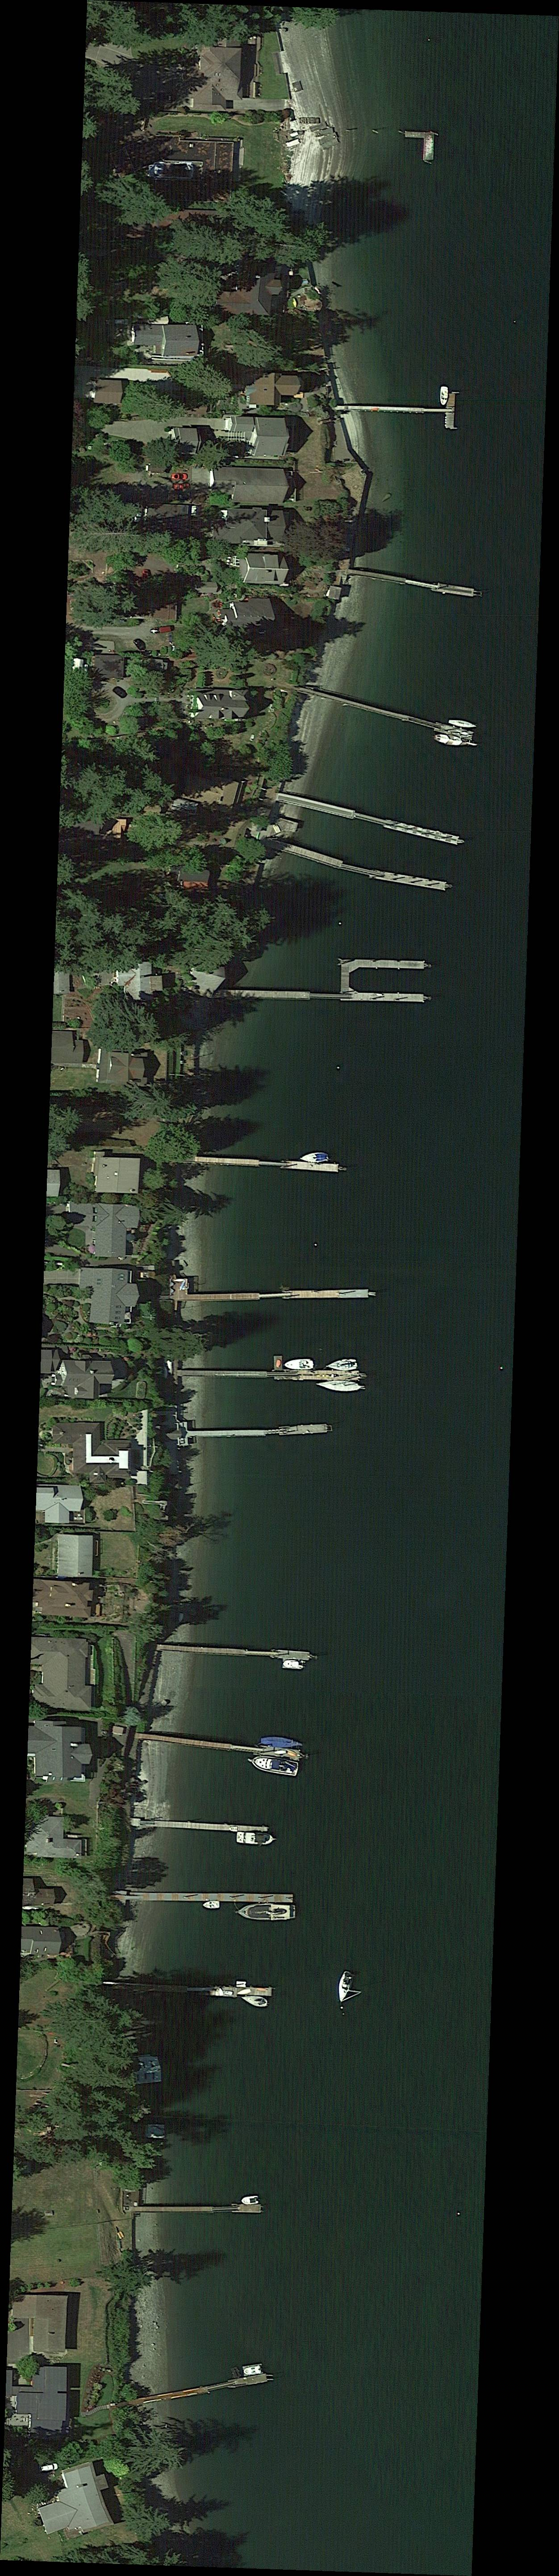harbor: (265, 831, 447, 900), (276, 792, 459, 846), (299, 687, 474, 741), (140, 1732, 301, 1761), (136, 2372, 270, 2407), (349, 568, 475, 598), (102, 1980, 271, 1996), (178, 1423, 330, 1441), (217, 989, 423, 1002), (159, 1644, 311, 1661), (196, 1157, 339, 1173), (186, 1290, 368, 1301), (127, 1891, 293, 1902), (140, 1819, 268, 1833), (178, 1370, 360, 1380), (140, 2203, 263, 2213), (339, 404, 455, 414)
ship: (248, 1755, 299, 1779), (233, 1902, 296, 1922), (431, 731, 477, 751), (334, 1970, 360, 2004), (235, 1830, 276, 1848), (316, 1380, 365, 1393), (260, 1736, 303, 1750), (324, 1359, 360, 1372), (283, 1357, 314, 1370), (447, 718, 477, 731), (242, 1996, 271, 2009), (299, 1152, 329, 1163), (281, 1659, 306, 1671), (242, 2362, 263, 2376), (240, 2193, 263, 2205), (439, 386, 449, 406), (202, 1901, 220, 1909)
